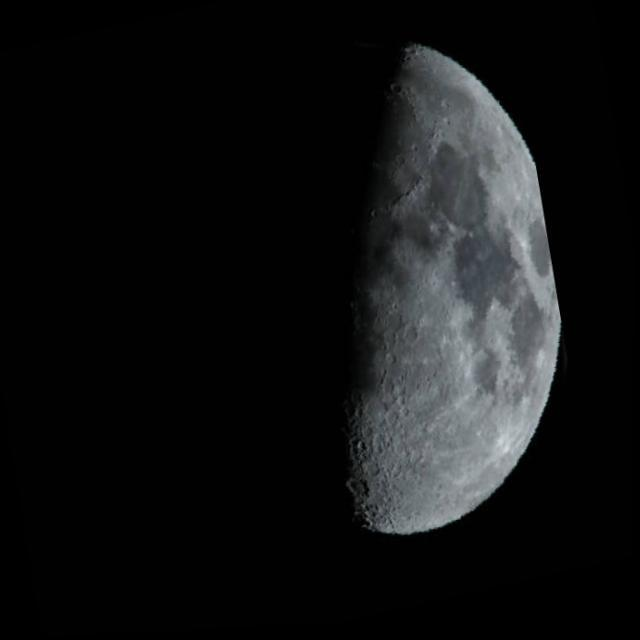moon: (102, 2, 602, 626)
